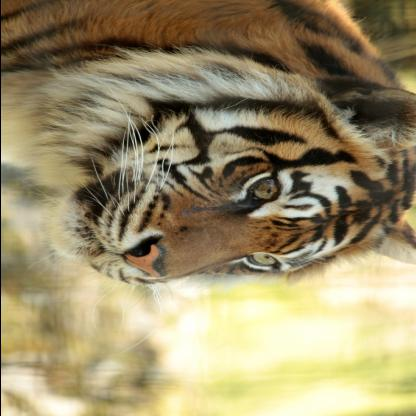tiger: (44, 72, 414, 293)
